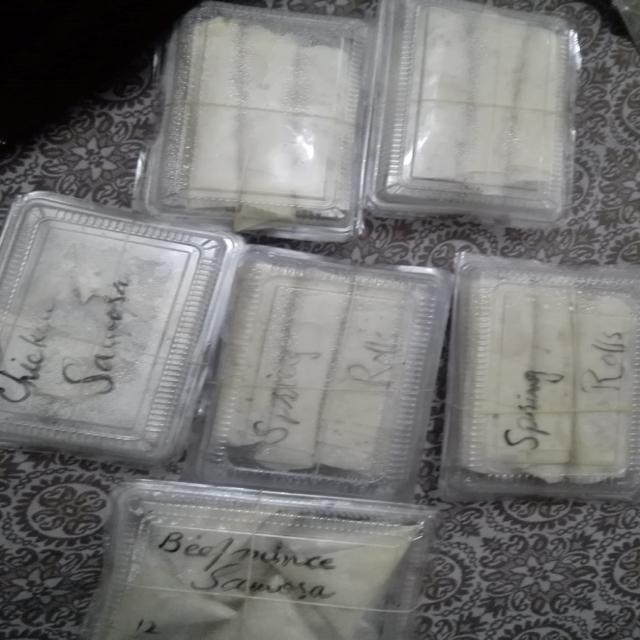Samosa: (113, 492, 411, 636), (11, 199, 164, 435)
Spring Rolls: (180, 13, 626, 475)
